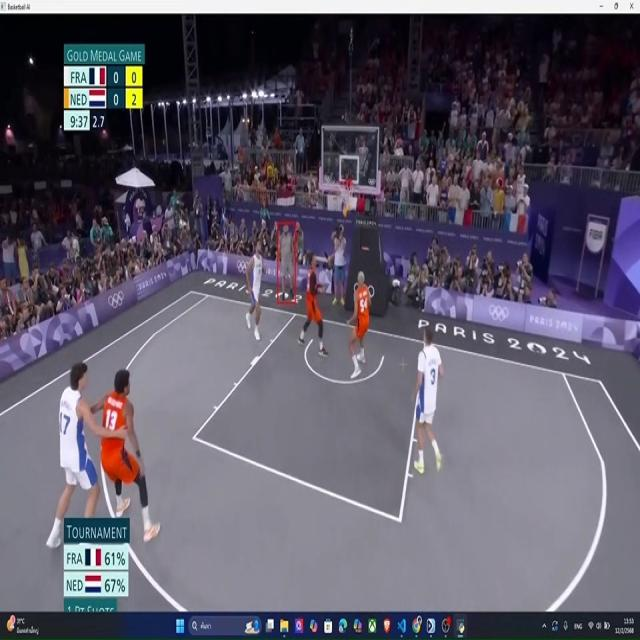hoop: (336, 178, 354, 210)
